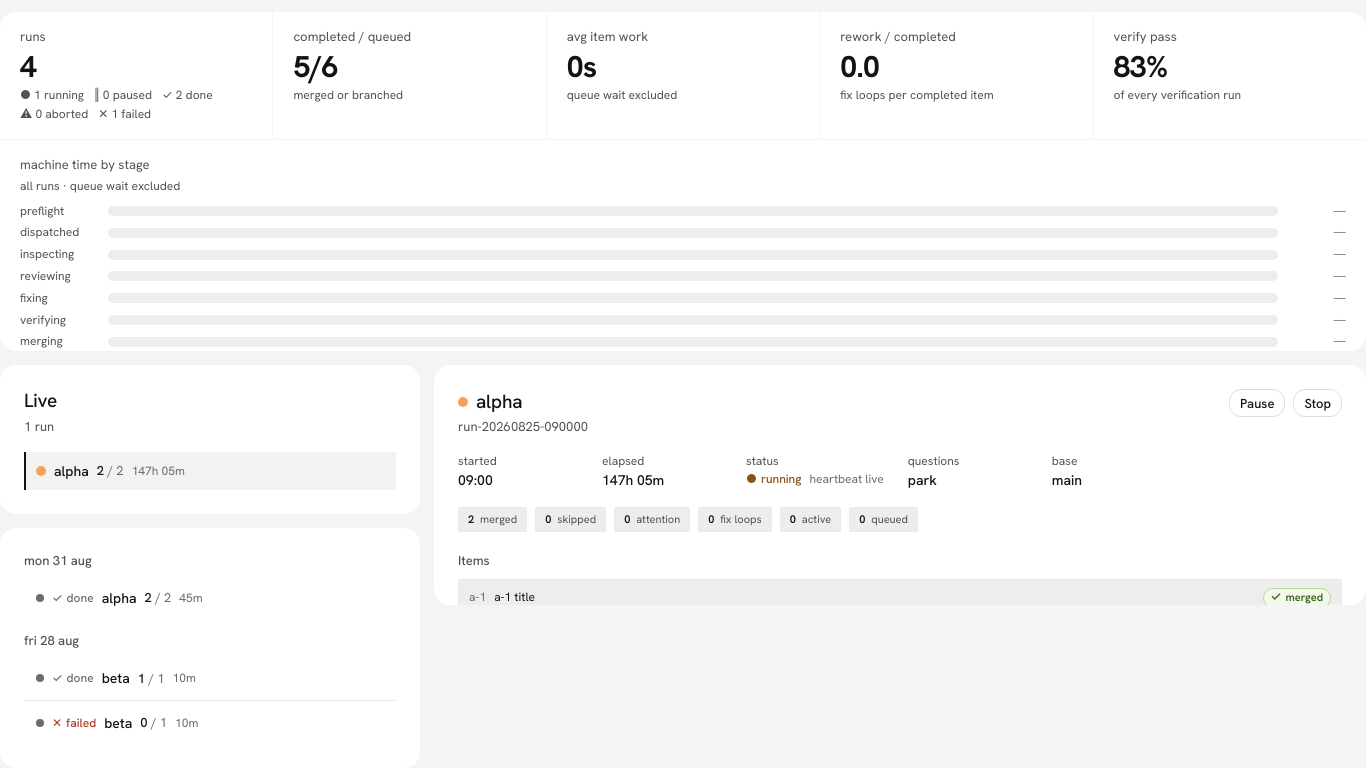
it: RunsView › moves the selection when a different row is clicked
(page scrolled)
Expected: the element with test id "runs-list" is shown, x1=0 y1=365 x2=420 y2=605
Expected: the element with test id "run-detail-slot" shows "run-20260825-090000", x1=458 y1=418 x2=588 y2=435
Click the button "✓ done beta 1 / 1 10m".
click(40, 678)  # box x1=24 y1=656 x2=396 y2=700
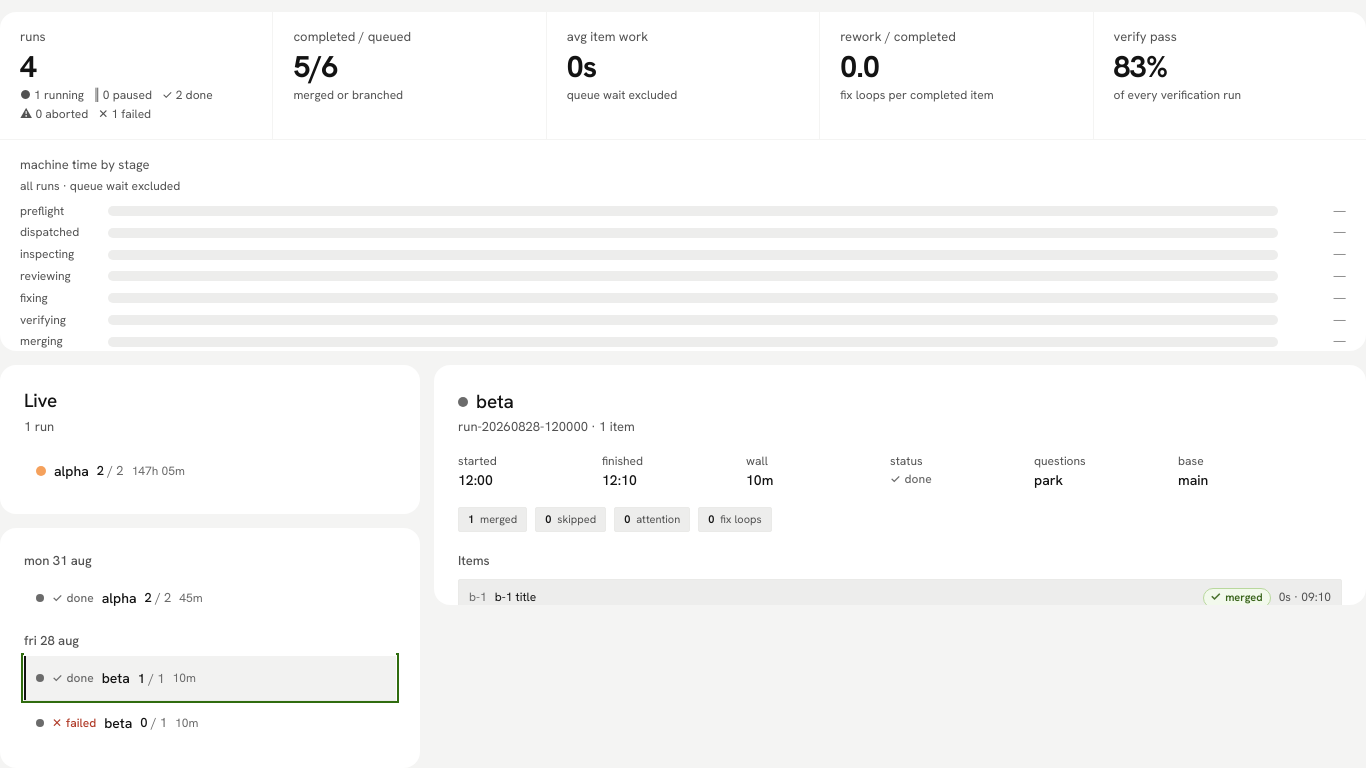
Expected: the element with test id "run-detail-slot" shows "run-20260828-120000", x1=458 y1=418 x2=635 y2=435
